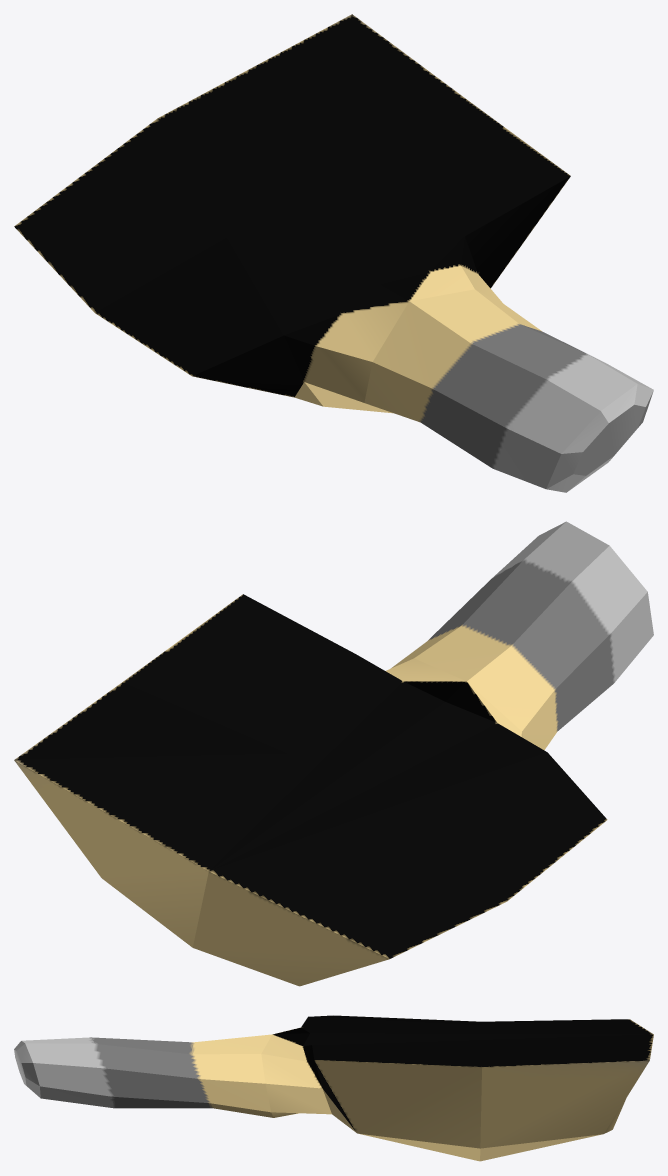
Rendered from weapon 3.FBX.
The picture shows the model from 3 angles, top to bottom: view 1: azimuth 30°, elevation 25°; view 2: azimuth 150°, elevation 25°; view 3: azimuth 270°, elevation 25°; orthographic projection. The views are drawn at different scales.
Visible parts, largest first — view 1: Box001; view 2: Box001; view 3: Box001.
Part boxes in pixels (bbox=[...]): Box001: bbox=[14, 14, 653, 492]; Box001: bbox=[14, 521, 653, 986]; Box001: bbox=[14, 1015, 653, 1161].
Bounding box in the file's own units: 26.86 × 13.73 × 52.48.
Materials: 1 (1 with a texture image).
